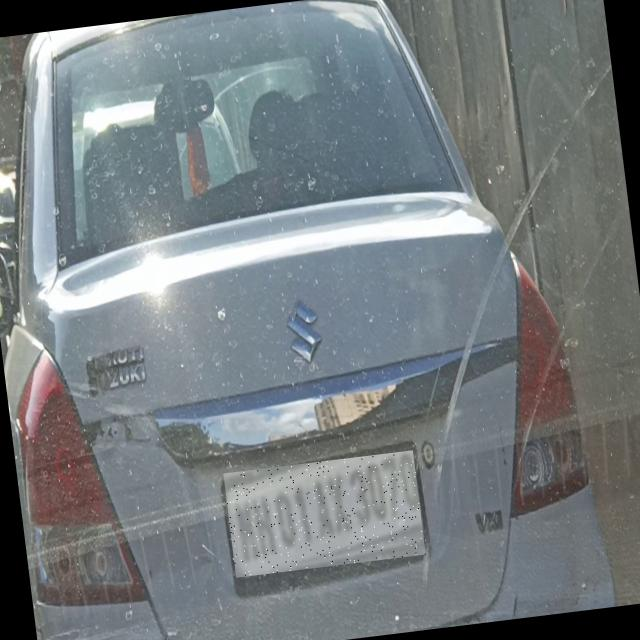Plate: (224, 451, 426, 578)
